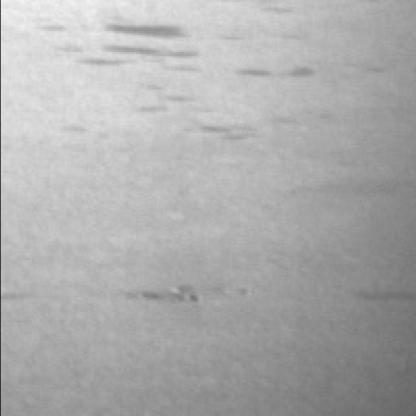inclusion: (73, 10, 208, 75), (104, 275, 216, 314), (223, 54, 328, 90), (347, 276, 416, 308)
